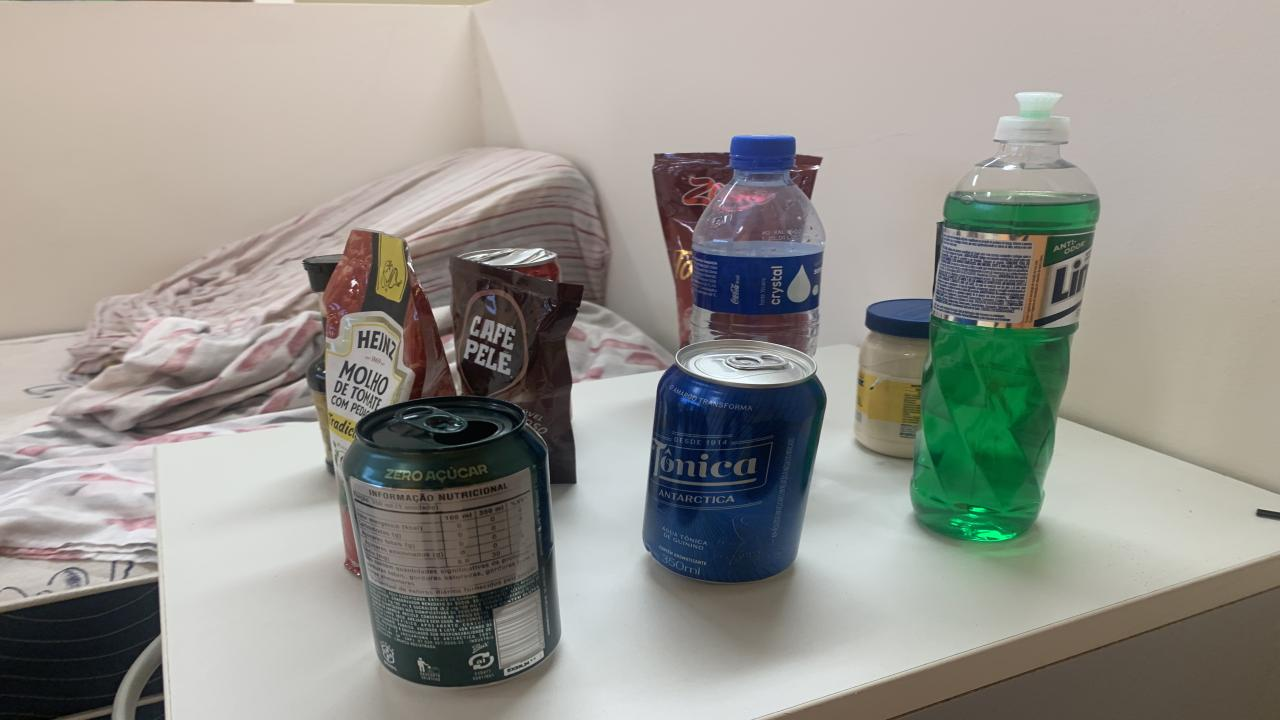Coffee-Pantry_Items: (450, 257, 582, 484)
Coke-Drinks: (460, 248, 560, 281)
Detergent-Cleanup_Items: (912, 92, 1100, 540)
English_Sauce-Pantry_Items: (308, 354, 335, 472), (302, 255, 342, 315)
Guarana_Can-Drinks: (340, 396, 560, 686)
Mayonnaise-Pantry_Items: (855, 300, 930, 458)
Tomato_Sauce-Pantry_Items: (322, 229, 455, 467), (652, 152, 732, 345), (790, 156, 822, 197)
Tonic-Drinks: (642, 339, 825, 583)
Water_Bottle-Drinks: (690, 135, 825, 354)
